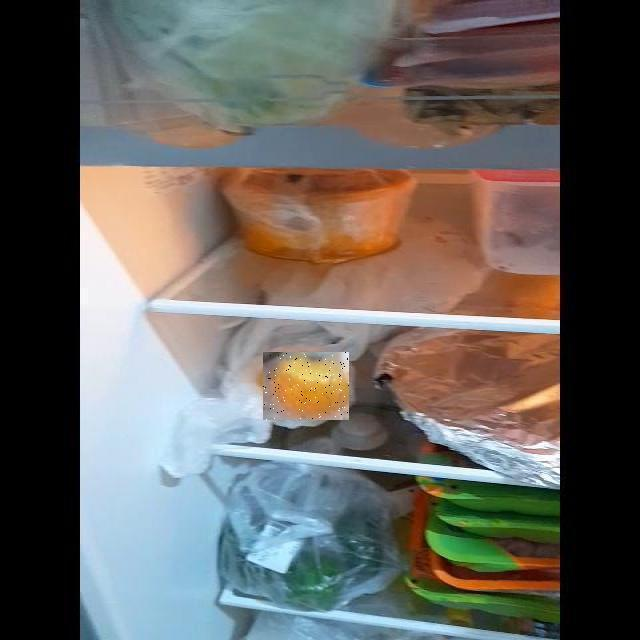Lemon: (263, 352, 349, 420)
